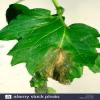Tomato mold leaf: (0, 8, 99, 88)
